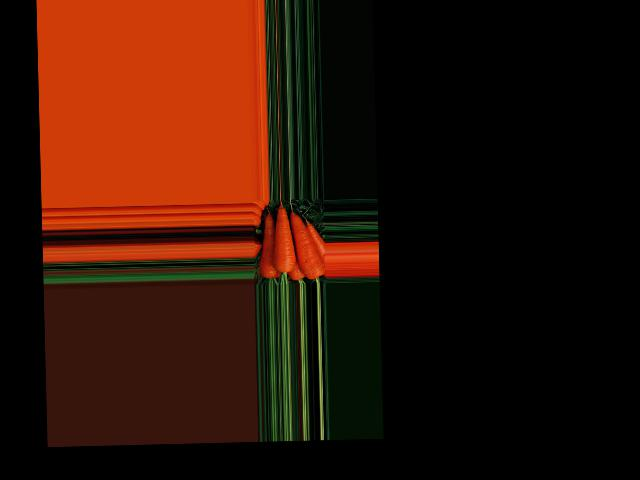carrot: (288, 208, 322, 278)
